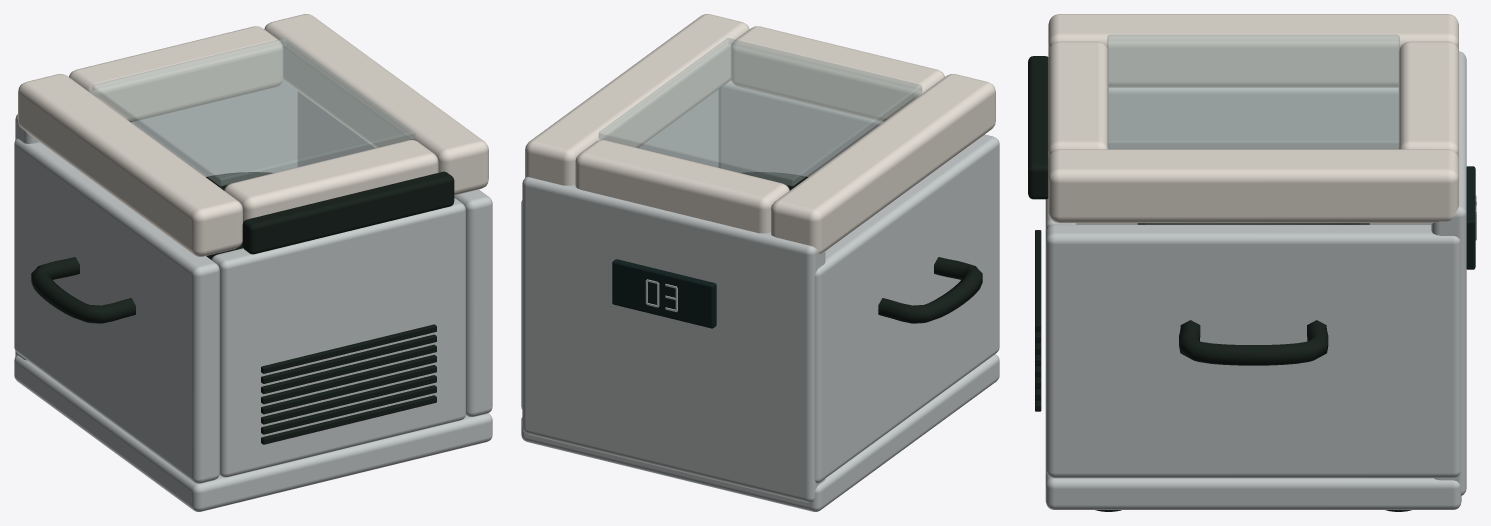
The model's file is kitchen-bread-maker.glb.
The picture shows the model from 3 angles, left to right: view 1: azimuth 30°, elevation 25°; view 2: azimuth 150°, elevation 25°; view 3: azimuth 270°, elevation 25°; orthographic projection. The views are drawn at different scales.
Parts seen in each view (by area): view 1: steel_surfaces, cream_surfaces, glass_surfaces, dark_surfaces; view 2: steel_surfaces, cream_surfaces, glass_surfaces, dark_surfaces; view 3: steel_surfaces, cream_surfaces, glass_surfaces, dark_surfaces.
Boxes of the visible parts, left/top/right/bottom form: steel_surfaces: left=14, top=80, right=492, bottom=511; cream_surfaces: left=18, top=14, right=488, bottom=256; glass_surfaces: left=91, top=38, right=415, bottom=186; dark_surfaces: left=31, top=171, right=454, bottom=444; steel_surfaces: left=521, top=80, right=999, bottom=511; cream_surfaces: left=525, top=14, right=995, bottom=253; glass_surfaces: left=598, top=38, right=922, bottom=186; dark_surfaces: left=612, top=172, right=982, bottom=328; steel_surfaces: left=1045, top=51, right=1466, bottom=509; cream_surfaces: left=1048, top=14, right=1458, bottom=223; glass_surfaces: left=1107, top=34, right=1399, bottom=149; dark_surfaces: left=1028, top=56, right=1476, bottom=511.
Size of the model in its own units: 0.4201 by 0.314 by 0.3561.
Materials: 4 (3 with a texture image).
